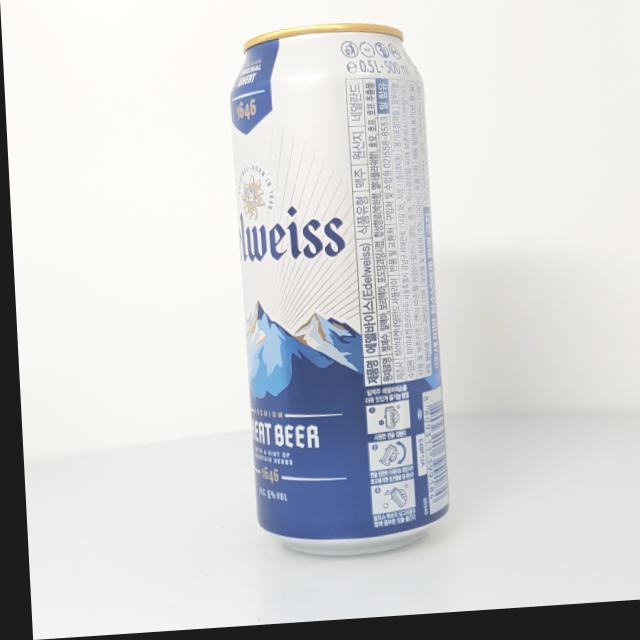beer-can: (226, 23, 445, 566)
